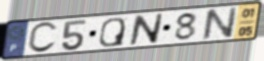5: (60, 18, 89, 52)
8: (173, 11, 199, 41)
C: (26, 20, 60, 55)
N: (201, 6, 239, 42), (128, 12, 165, 47)
Q: (97, 17, 127, 49)
